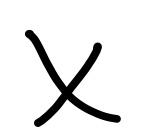mult: (25, 27, 121, 124)
